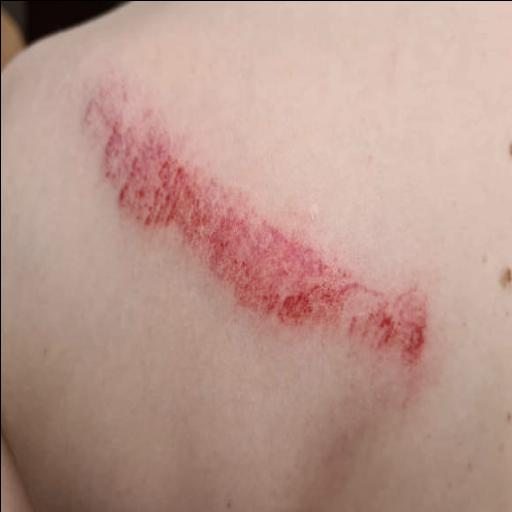bruises: (162, 186, 308, 332)
